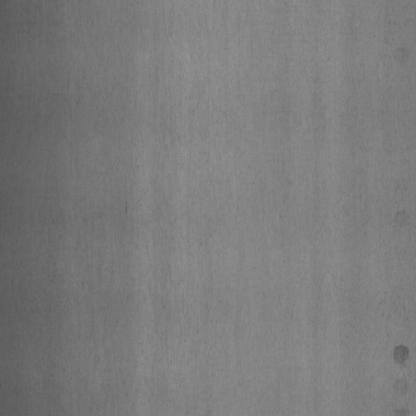oil_spot: (390, 340, 410, 377)
